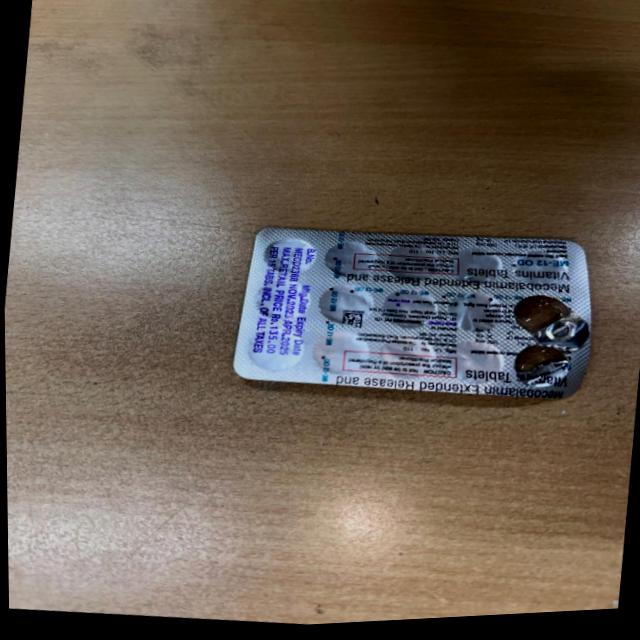medicine: (206, 215, 609, 416)
